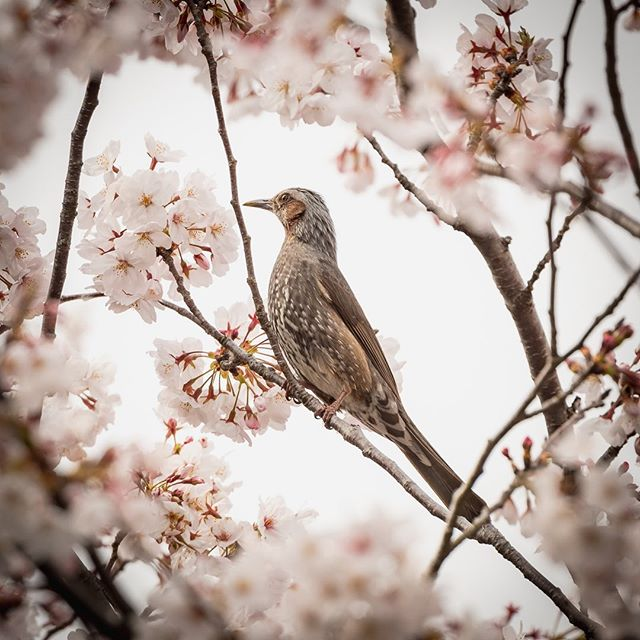animal: (221, 176, 487, 507)
vegetation: (1, 1, 630, 629)
